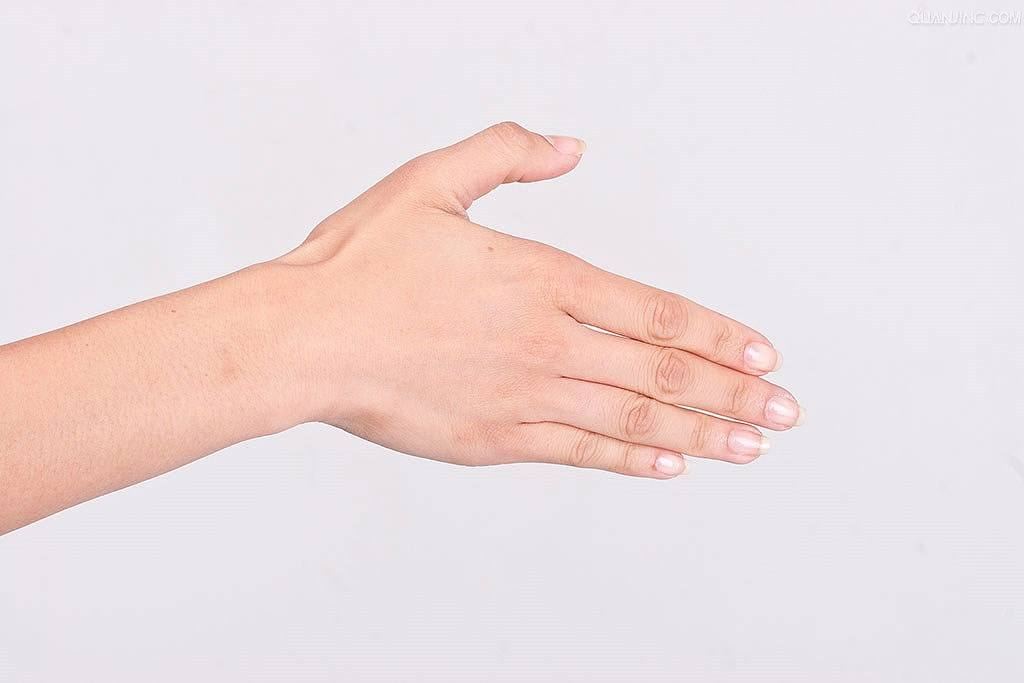no-phone: (279, 114, 805, 481)
